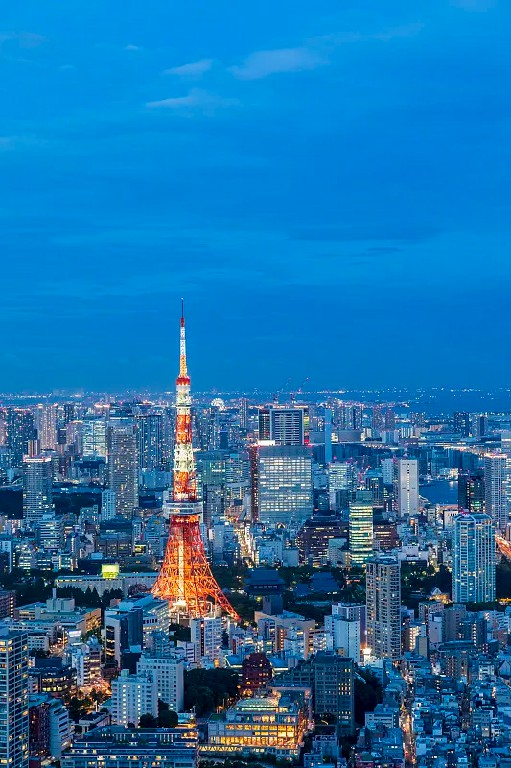Tokyo: (142, 291, 242, 626)
